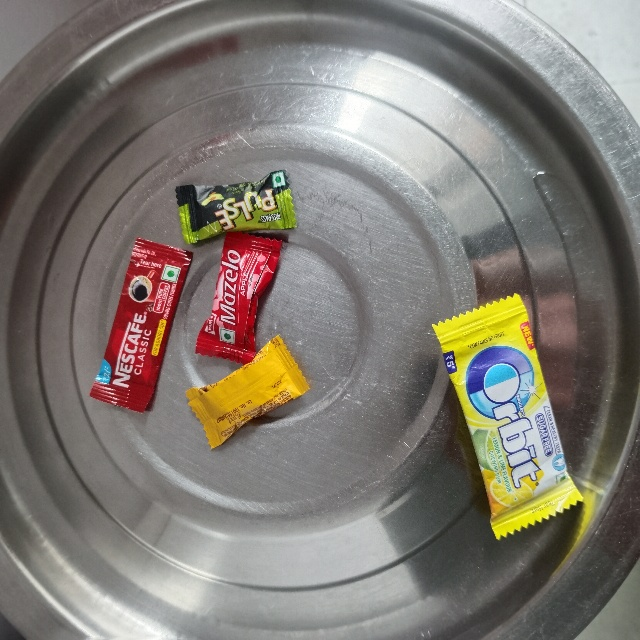Alpenlibe Creamfills: (178, 399, 303, 459)
Mazelo: (197, 346, 322, 406)
Nescafe Coffee: (86, 398, 254, 458)
Orbit: (425, 325, 526, 553)
Pulse: (170, 187, 291, 247)
